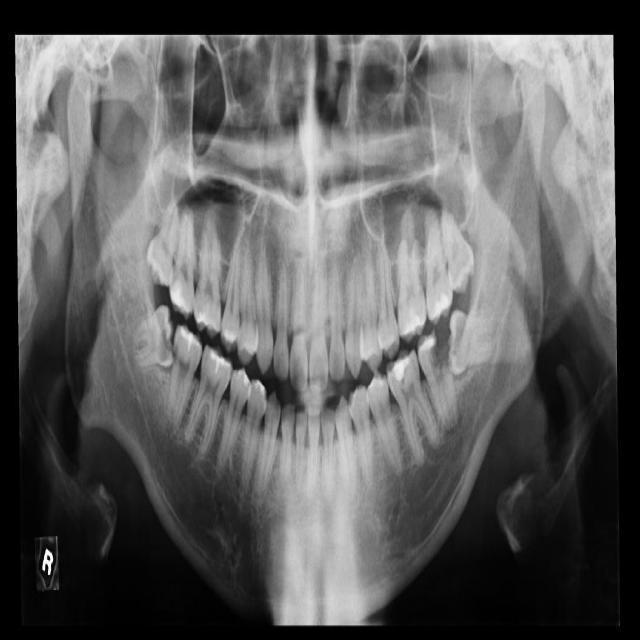Caries: (432, 332, 451, 372), (158, 329, 175, 361), (173, 346, 179, 364)
Filling: (210, 348, 231, 372), (181, 327, 200, 353), (392, 356, 410, 383)
impacted tooth: (449, 310, 496, 373), (128, 307, 175, 366), (442, 205, 473, 287)
